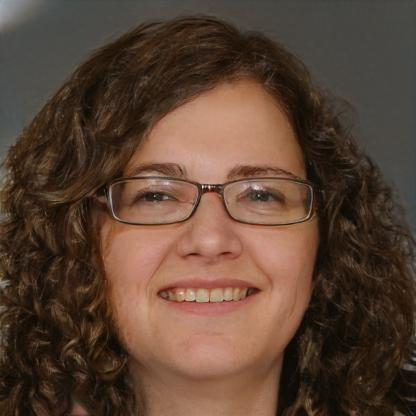glasses: (104, 172, 318, 232)
